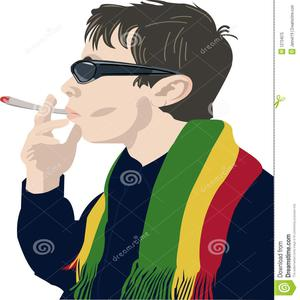cigarette: (1, 94, 57, 117)
